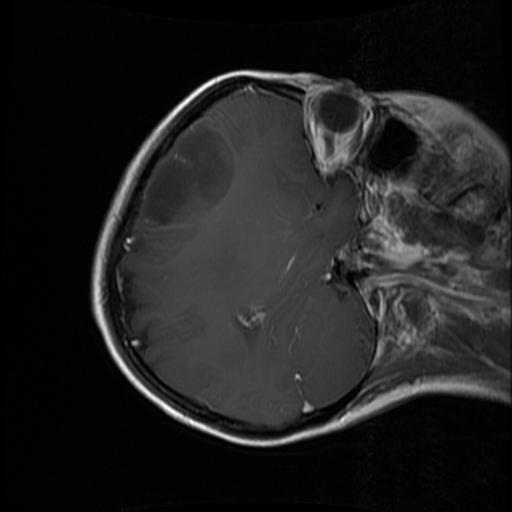glioma: (141, 123, 235, 226)
